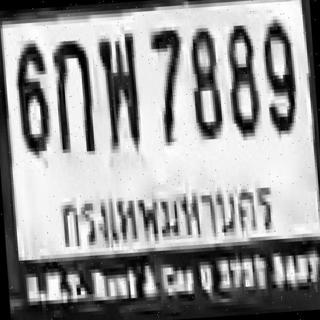A01: (51, 36, 94, 153)
A30: (96, 31, 140, 148)
N06: (13, 39, 49, 152)
N07: (148, 26, 186, 143)
N08: (223, 21, 259, 134), (186, 24, 221, 137)
N09: (259, 15, 296, 132)
P04: (53, 174, 280, 258)
